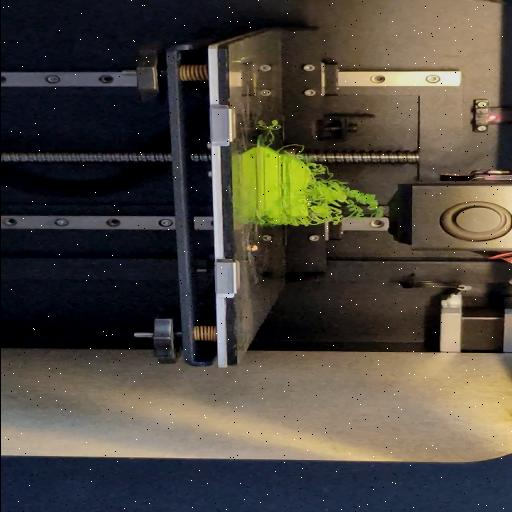spaghetti: (305, 159, 385, 226), (258, 214, 308, 226), (265, 120, 281, 148), (282, 142, 306, 152)
